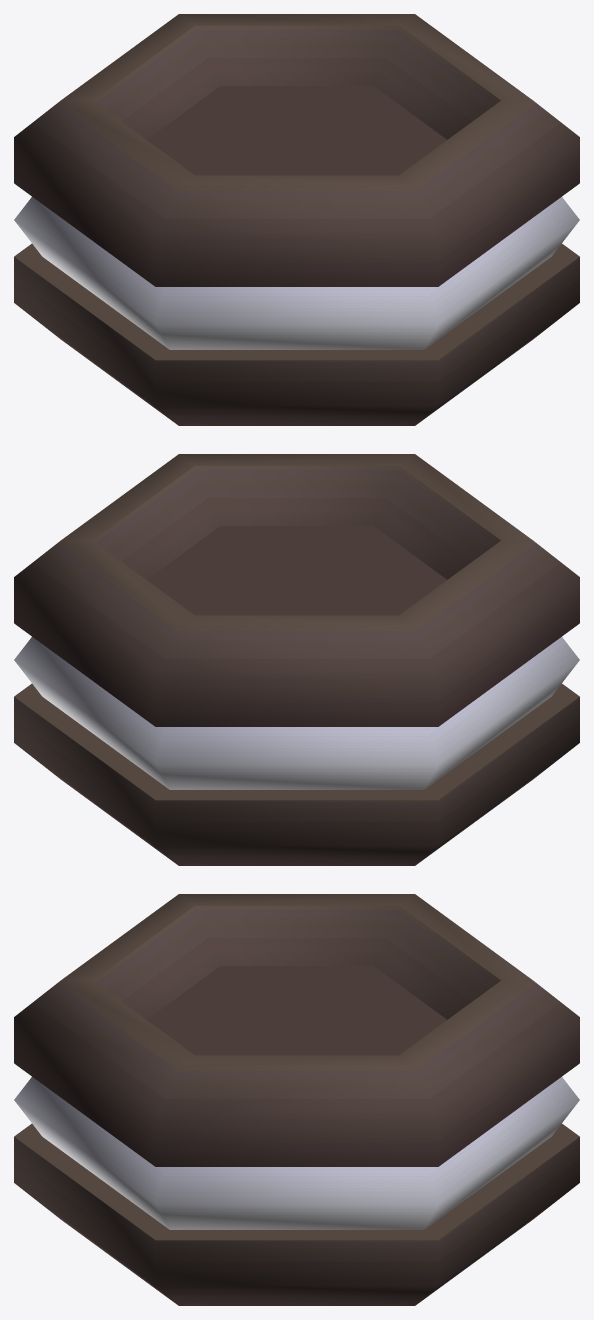
File: cookie-chocolate.glb
3 renders of one model, top to bottom at view 1: azimuth 30°, elevation 25°; view 2: azimuth 150°, elevation 25°; view 3: azimuth 270°, elevation 25°, orthographic.
Parts seen in each view (by area): view 1: cookie-chocolate; view 2: cookie-chocolate; view 3: cookie-chocolate.
Part boxes in pixels (x1,y1,x2,y2): cookie-chocolate: [14, 14, 579, 425]; cookie-chocolate: [14, 454, 579, 865]; cookie-chocolate: [14, 894, 579, 1305].
Bounding box in the file's own units: 0.1213 × 0.0652 × 0.14.
Materials: 1 (1 with a texture image).
